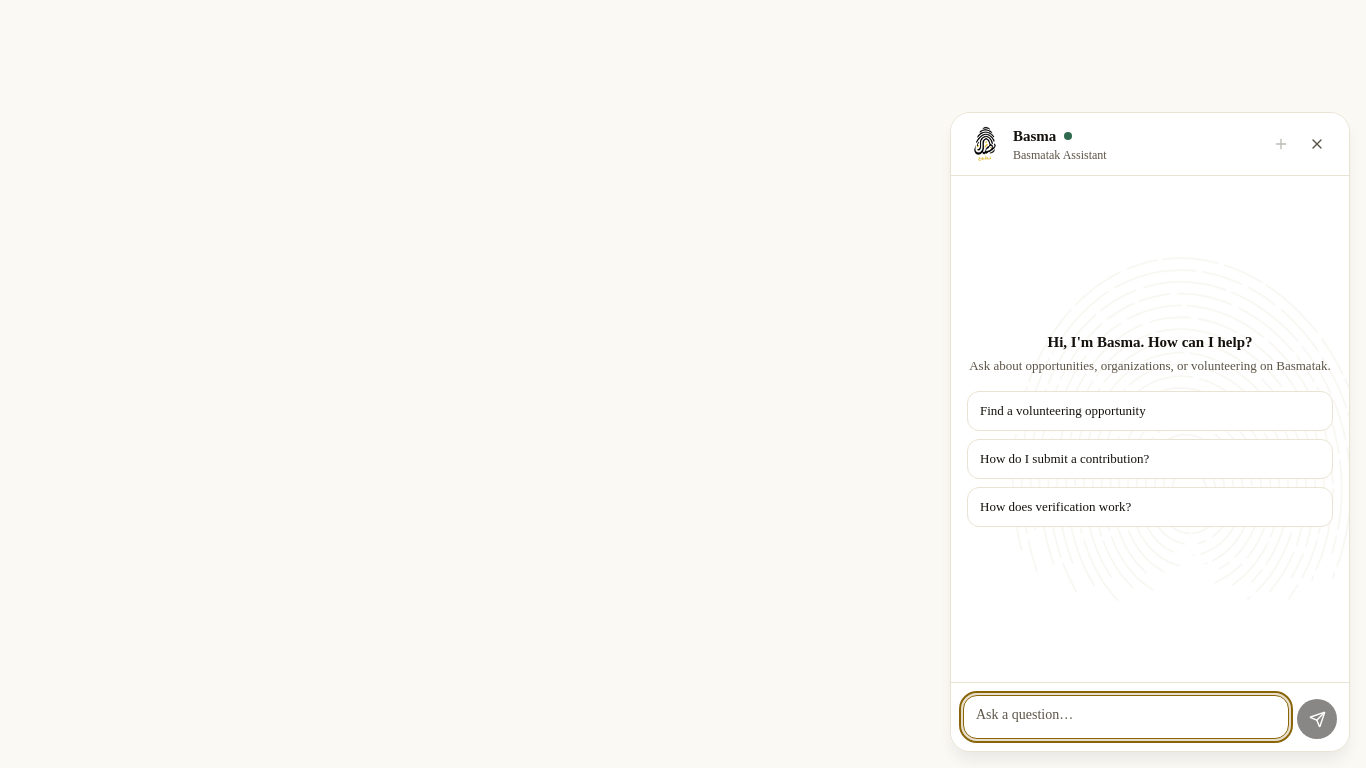
Test: AiAgentPanel › uses the smaller of the hook and service message limits
The image size is (1366, 768).
Type "123456" into the text box with test id "ai-agent-input" at (1126, 717), box [963,695,1289,739]
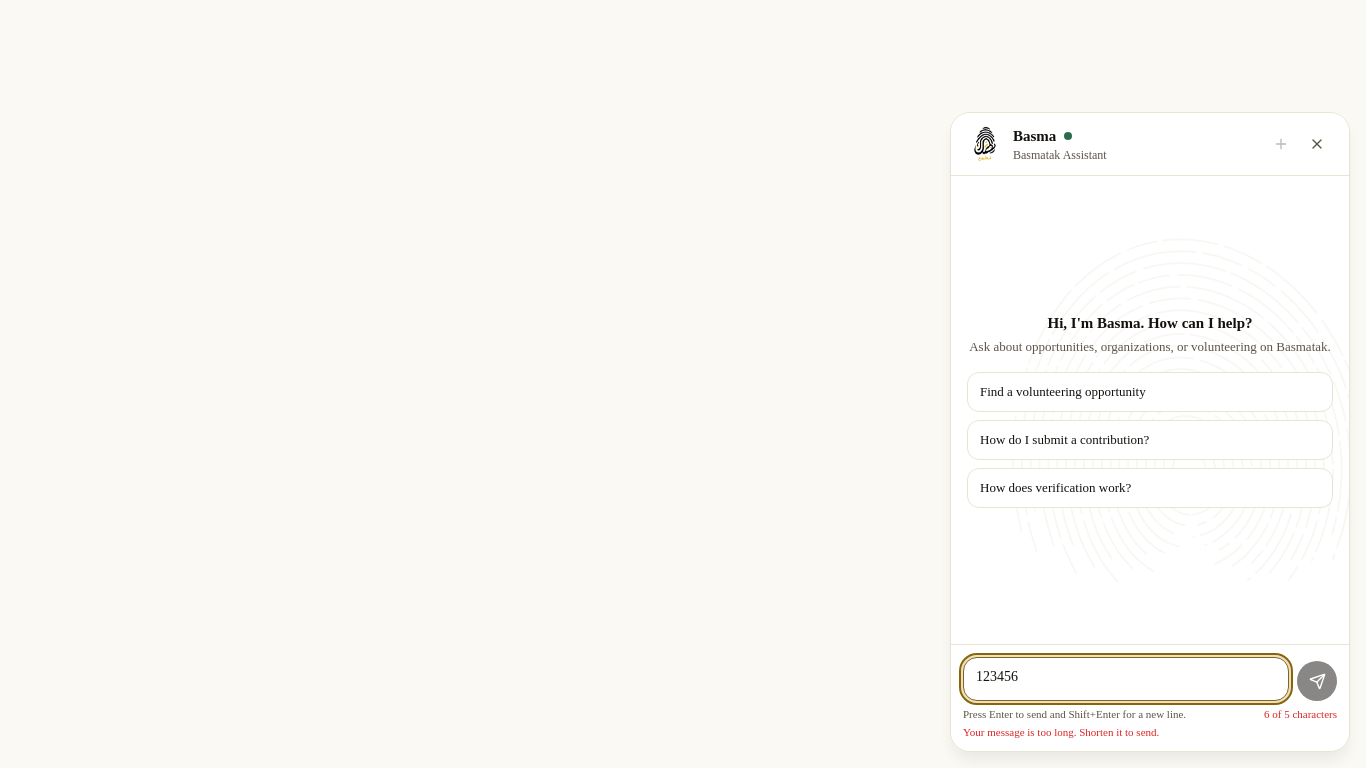
Result: the text "Your message is too long. Shorten it to send." is shown at [963,726,1159,738]
